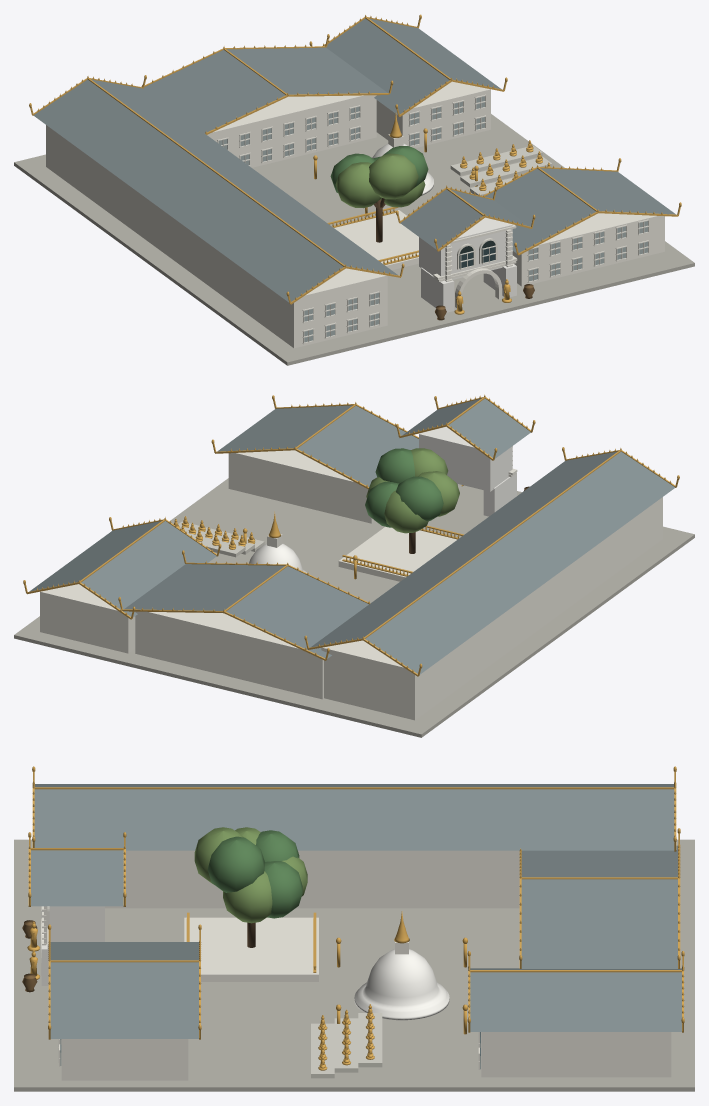
Rendered from map.glb.
The picture shows the model from 3 angles, top to bottom: view 1: azimuth 30°, elevation 25°; view 2: azimuth 150°, elevation 25°; view 3: azimuth 270°, elevation 25°; orthographic projection. The views are drawn at different scales.
Bounding box in the file's own units: 74.17 × 17.8 × 86.
